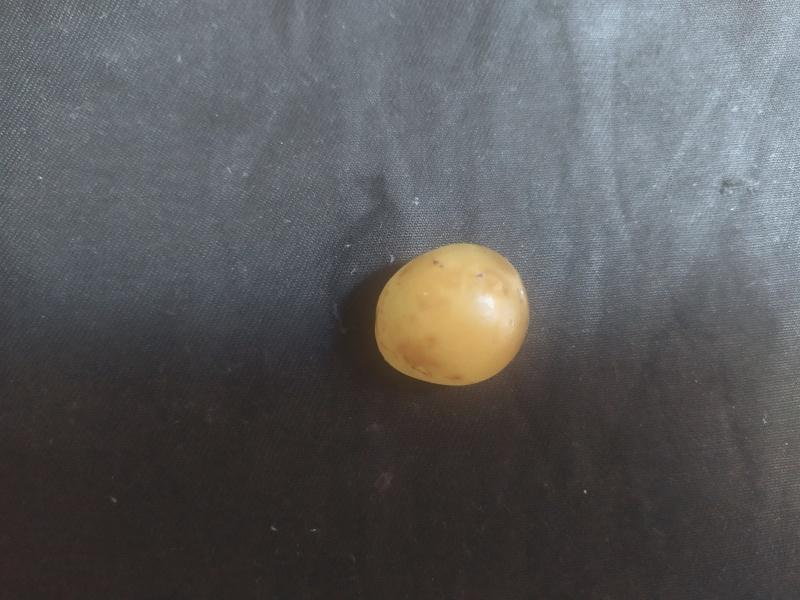Grape Rotten: (371, 242, 531, 387)
